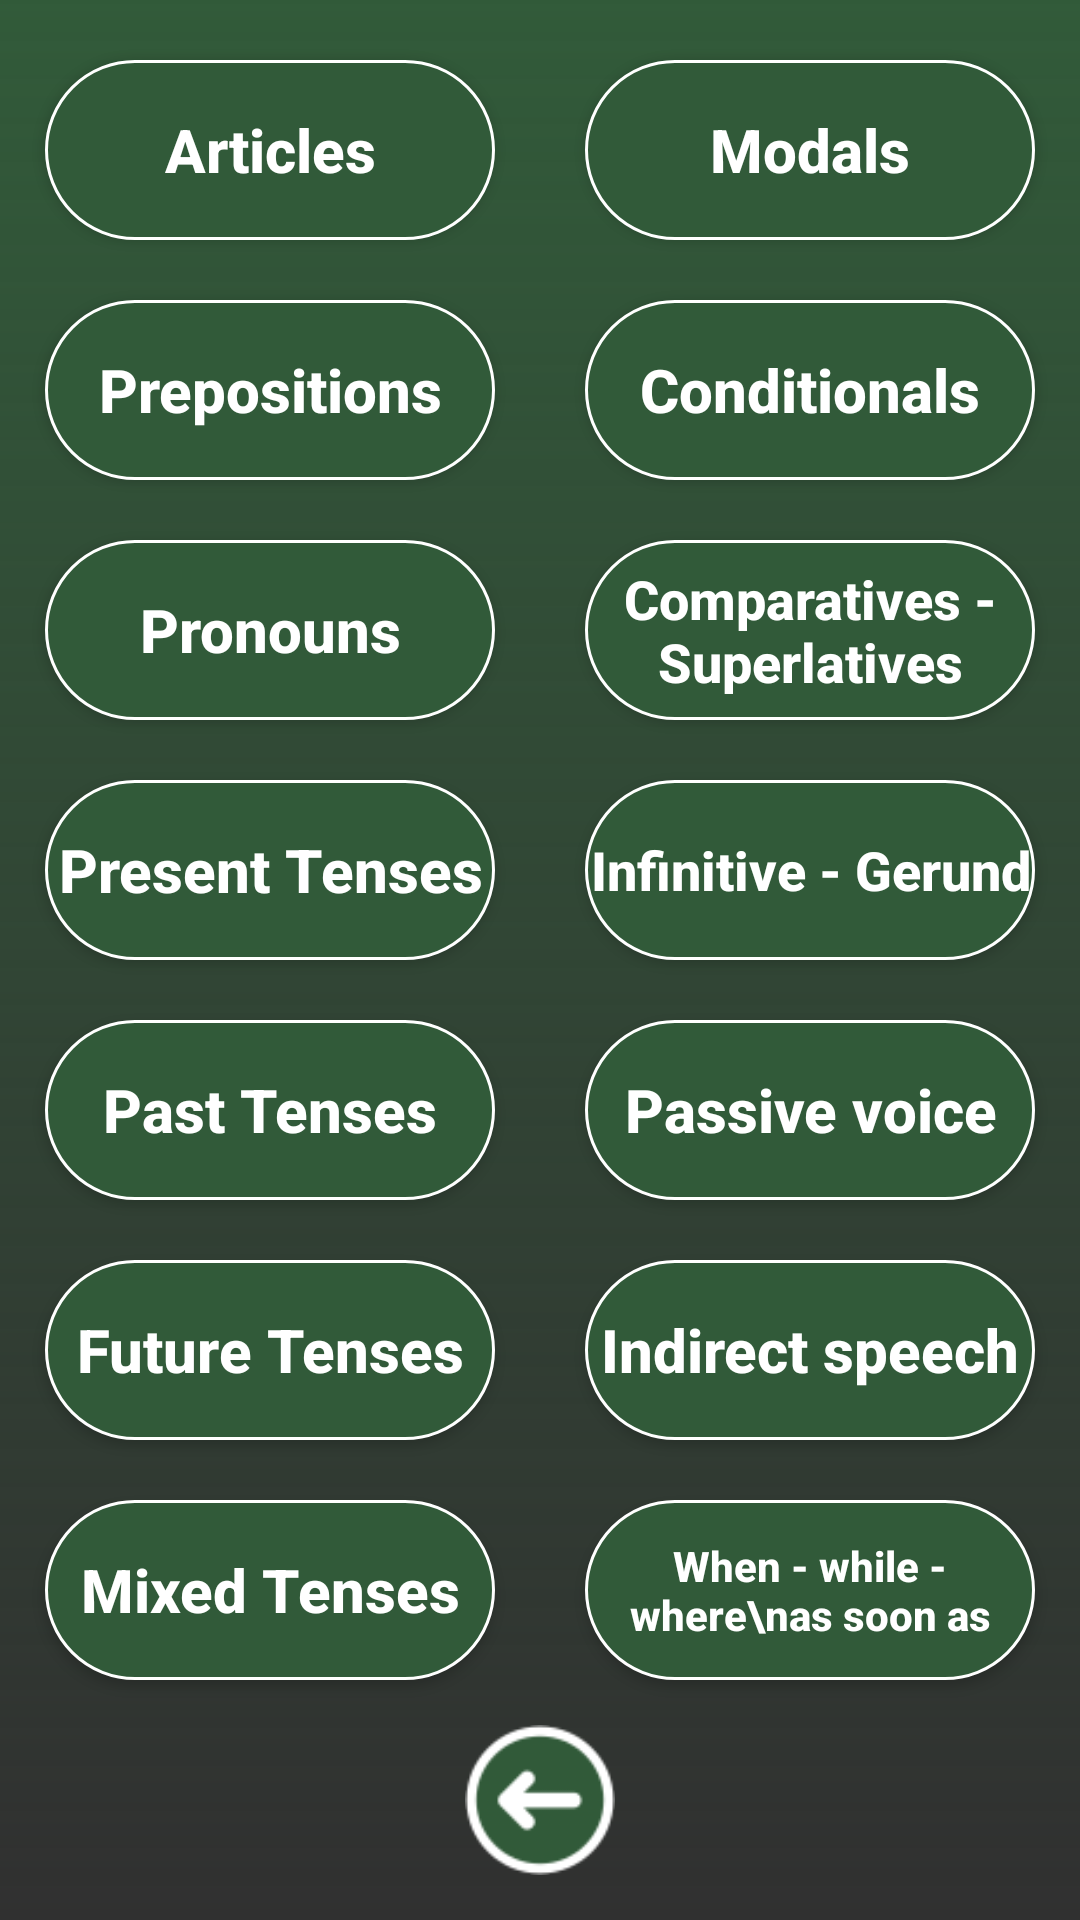

Icons on this 1080x1920 Android screen, each with its box as {"left": x1, "top": y1, "right": x2, "bottom": y2}:
back: {"left": 465, "top": 1725, "right": 615, "bottom": 1875}
